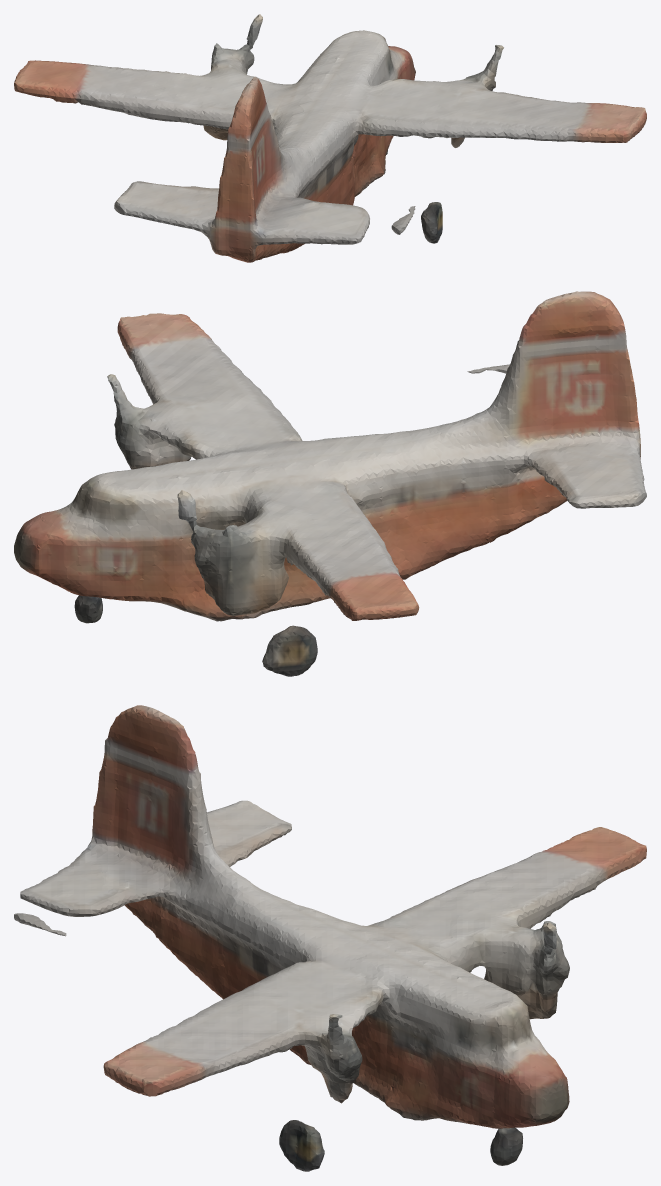
The model's file is tanker.glb.
3 views of the same model, one above another, from view 1: azimuth 30°, elevation 25°; view 2: azimuth 150°, elevation 25°; view 3: azimuth 270°, elevation 25° (orthographic). The views are drawn at different scales.
Parts seen in each view (by area): view 1: world; view 2: world; view 3: world.
Part boxes in pixels (<box>): world: <box>14,14,646,262</box>; world: <box>14,291,646,676</box>; world: <box>14,705,646,1171</box>.
Size of the model in its own units: 1.98 by 1.02 by 1.84.
